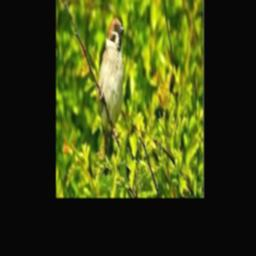Sparrow: (97, 18, 125, 176)
